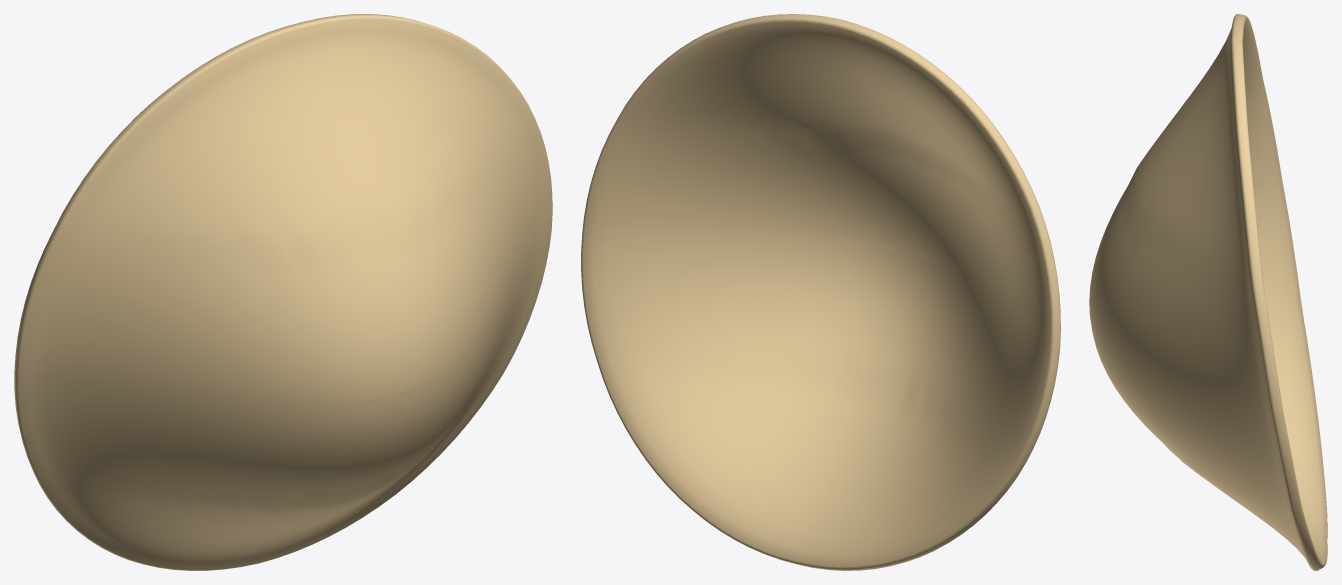
The model's file is Masculine-nose-rounded.glb.
3 renders of one model, left to right at view 1: azimuth 30°, elevation 25°; view 2: azimuth 150°, elevation 25°; view 3: azimuth 270°, elevation 25°, orthographic. The views are drawn at different scales.
Parts seen in each view (by area): view 1: Face / rounded nose; view 2: Face / rounded nose; view 3: Face / rounded nose.
Part boxes in pixels (left/top/right/bottom): Face / rounded nose: left=14, top=14, right=552, bottom=570; Face / rounded nose: left=581, top=14, right=1060, bottom=570; Face / rounded nose: left=1089, top=14, right=1327, bottom=570.
Bounding box in the file's own units: 0.0682 × 0.0702 × 0.0298.
